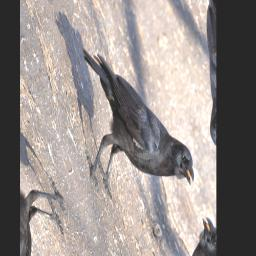Crow: (52, 6, 201, 243)
